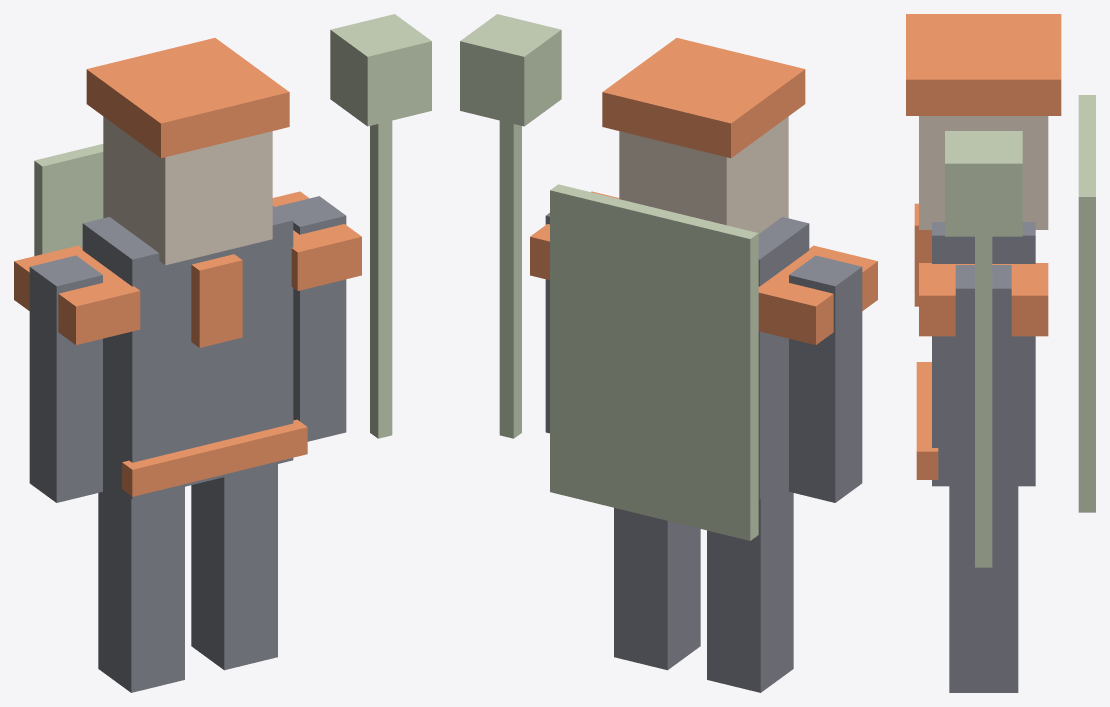
Rendered from 06_zerin_frostrelay_cartographer_of_stabilizer.glb.
3 views of the same model, side by side, from view 1: azimuth 30°, elevation 25°; view 2: azimuth 150°, elevation 25°; view 3: azimuth 270°, elevation 25° (orthographic). The views are drawn at different scales.
Visible parts, largest first — view 1: Zerin Frostrelay, Cartographer of Stabilizer; view 2: Zerin Frostrelay, Cartographer of Stabilizer; view 3: Zerin Frostrelay, Cartographer of Stabilizer.
Boxes of the visible parts, x1,y1,x2,y2 form: Zerin Frostrelay, Cartographer of Stabilizer: (14, 14, 431, 692); Zerin Frostrelay, Cartographer of Stabilizer: (460, 14, 877, 692); Zerin Frostrelay, Cartographer of Stabilizer: (906, 14, 1095, 692).
Size of the model in its own units: 1.07 by 1.61 by 0.4548.
